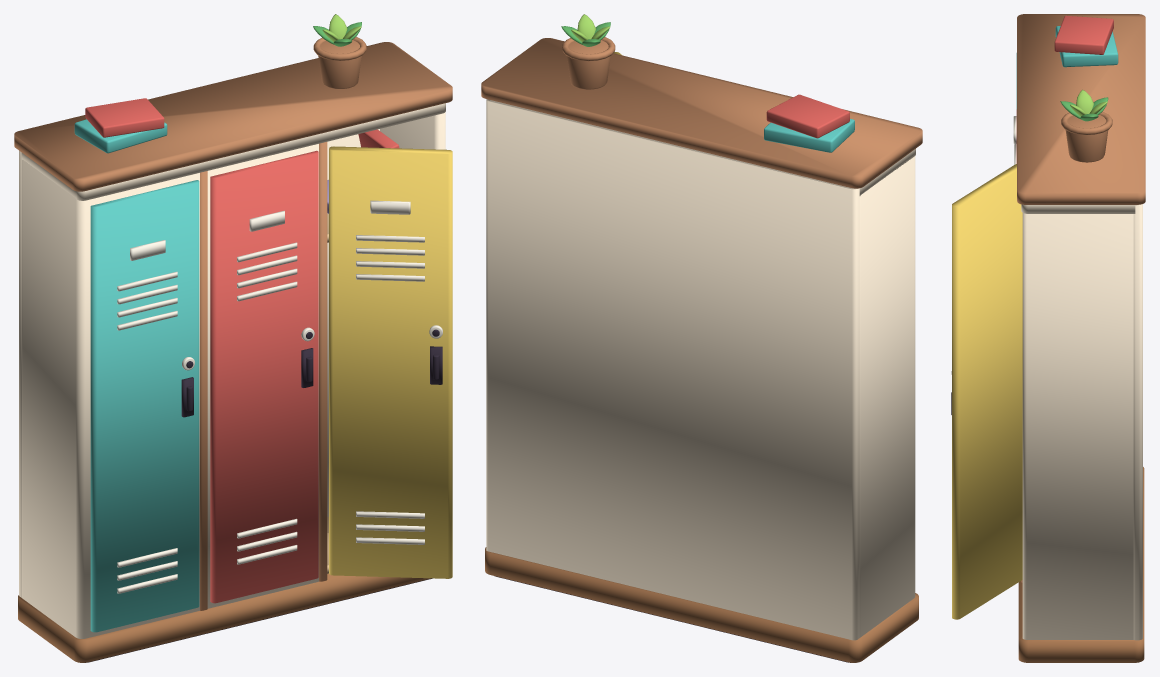
The model's file is locker-bank.glb.
3 views of the same model, side by side, from view 1: azimuth 30°, elevation 25°; view 2: azimuth 150°, elevation 25°; view 3: azimuth 270°, elevation 25° (orthographic). The views are drawn at different scales.
Visible parts, largest first — view 1: HallwayLockerBank_ButterDoor, HallwayLockerBank_CoralDoorAndBooks, HallwayLockerBank_TurquoiseDoor, HallwayLockerBank_CreamCabinet, HallwayLockerBank_TerracottaTrimAndPot, HallwayLockerBank_CreamLouversAndTrim, HallwayLockerBank_WoodPlinthAndSoil, HallwayLockerBank_SlateHardwareAndPads; view 2: HallwayLockerBank_CreamCabinet, HallwayLockerBank_TerracottaTrimAndPot, HallwayLockerBank_WoodPlinthAndSoil, HallwayLockerBank_CoralDoorAndBooks, HallwayLockerBank_TurquoiseDoor; view 3: HallwayLockerBank_CreamCabinet, HallwayLockerBank_ButterDoor, HallwayLockerBank_TerracottaTrimAndPot, HallwayLockerBank_WoodPlinthAndSoil, HallwayLockerBank_CoralDoorAndBooks, HallwayLockerBank_TurquoiseDoor, HallwayLockerBank_GrassGreenPlant, HallwayLockerBank_LeafGreenPlant.
Boxes of the visible parts, x1,y1,x2,y2 form: HallwayLockerBank_ButterDoor: (329,146,452,578); HallwayLockerBank_CoralDoorAndBooks: (85,98,399,603); HallwayLockerBank_TurquoiseDoor: (74,119,199,632); HallwayLockerBank_CreamCabinet: (19,103,445,638); HallwayLockerBank_TerracottaTrimAndPot: (14,37,452,610); HallwayLockerBank_CreamLouversAndTrim: (117,200,442,593); HallwayLockerBank_WoodPlinthAndSoil: (18,573,431,662); HallwayLockerBank_SlateHardwareAndPads: (85,329,442,662); HallwayLockerBank_CreamCabinet: (486,99,915,640); HallwayLockerBank_TerracottaTrimAndPot: (481,37,922,188); HallwayLockerBank_WoodPlinthAndSoil: (485,547,918,662); HallwayLockerBank_CoralDoorAndBooks: (766,94,849,138); HallwayLockerBank_TurquoiseDoor: (764,119,854,152); HallwayLockerBank_CreamCabinet: (1021,204,1142,640); HallwayLockerBank_ButterDoor: (952,164,1022,619); HallwayLockerBank_TerracottaTrimAndPot: (1017,14,1145,582); HallwayLockerBank_WoodPlinthAndSoil: (1018,467,1144,662); HallwayLockerBank_CoralDoorAndBooks: (1016,15,1113,163); HallwayLockerBank_TurquoiseDoor: (1016,26,1118,108); HallwayLockerBank_GrassGreenPlant: (1070,89,1107,116); HallwayLockerBank_LeafGreenPlant: (1060,97,1108,121).
Size of the model in its own units: 1.52 by 2.09 by 0.6955.
